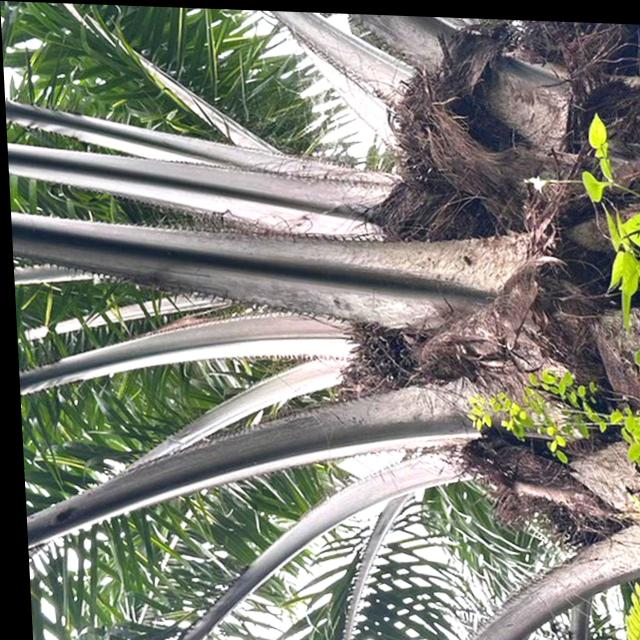unripe: (334, 289, 463, 403)
